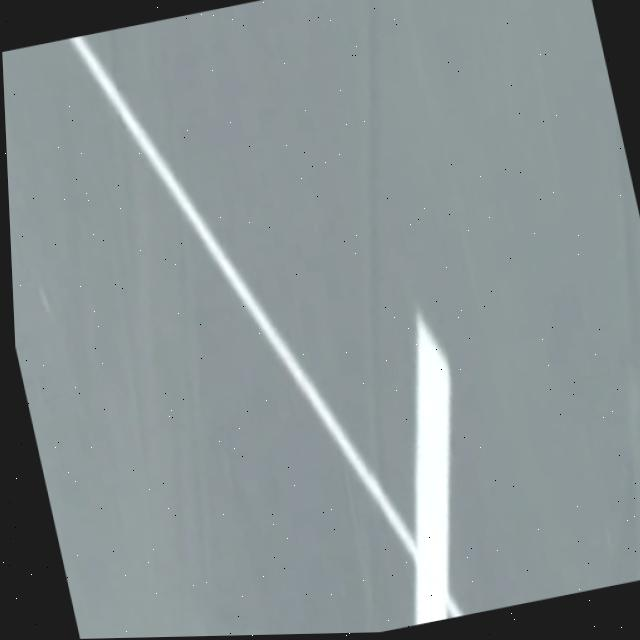center: (414, 323, 451, 625)
